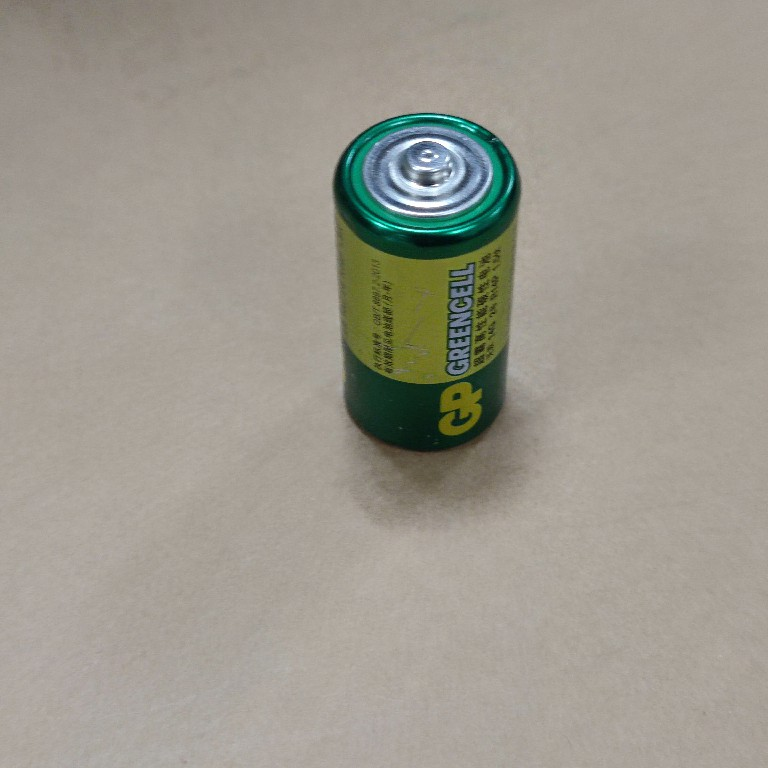charge: (327, 106, 527, 457)
